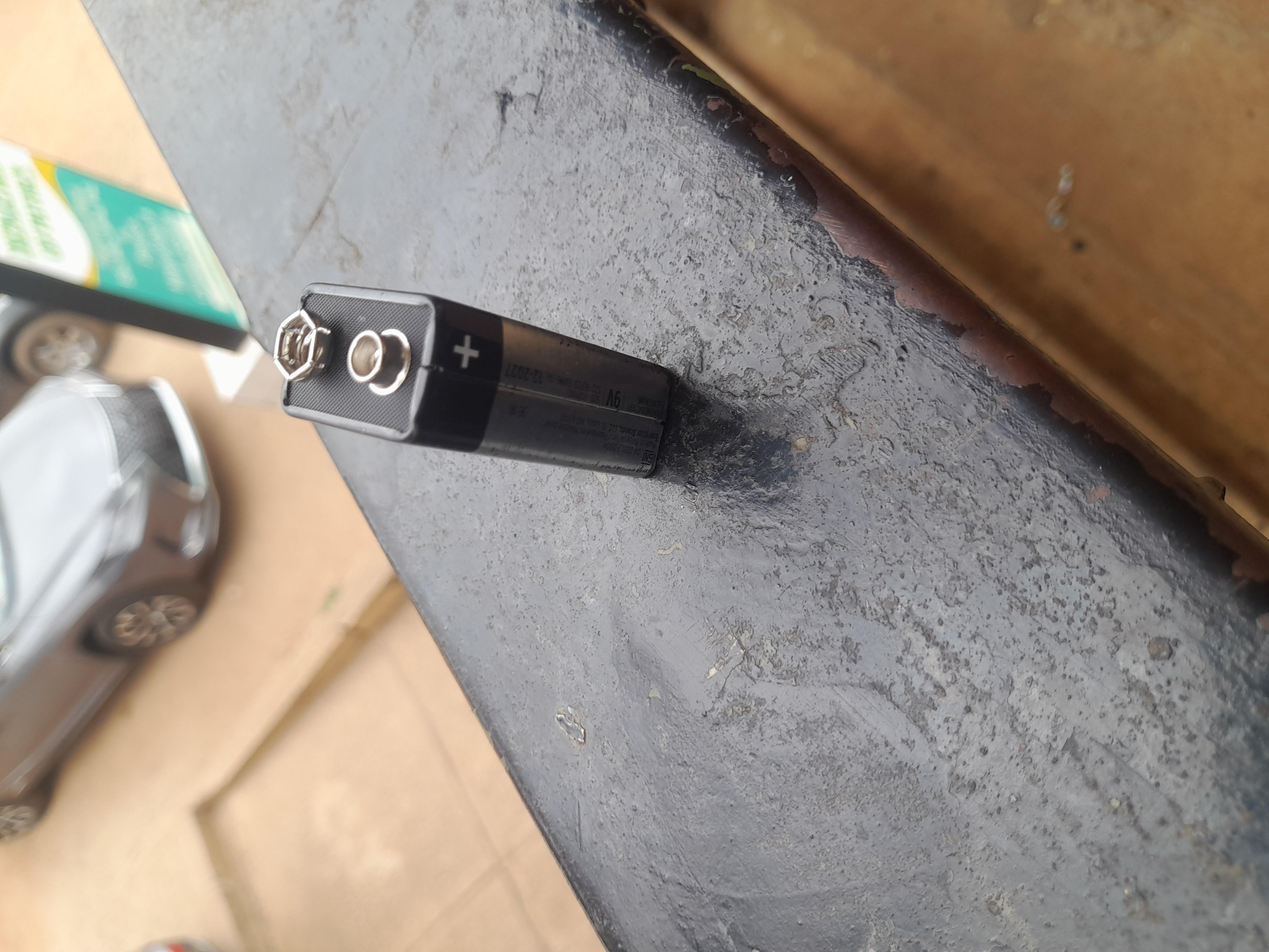9V: (605, 191, 894, 555)
